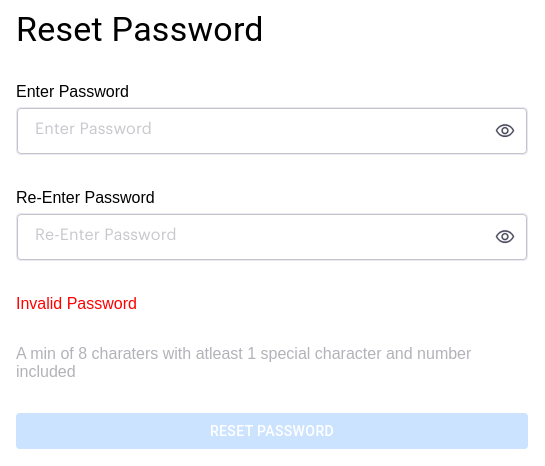
Test case: Reset Password › should display error passwords doesn't match
Type "Abcde@12" into the field with id "textfield-input" at {"x": 250, "y": 131}, box [21,104,479,158]
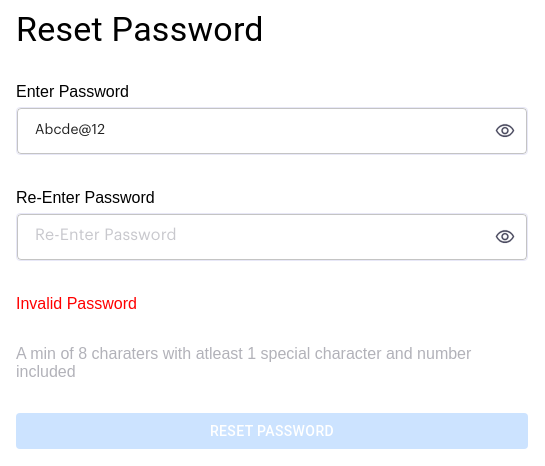
Type "Abcde@1" into the field with placeholder "Re-Enter Password" at {"x": 250, "y": 237}, box [21,210,479,264]
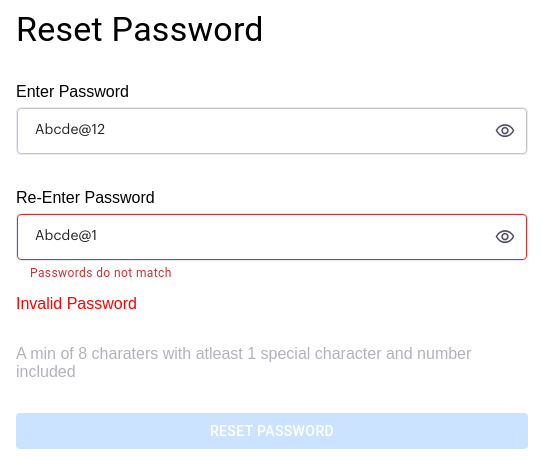
Now the text "Passwords do not match" is shown, box [30,266,172,280]
